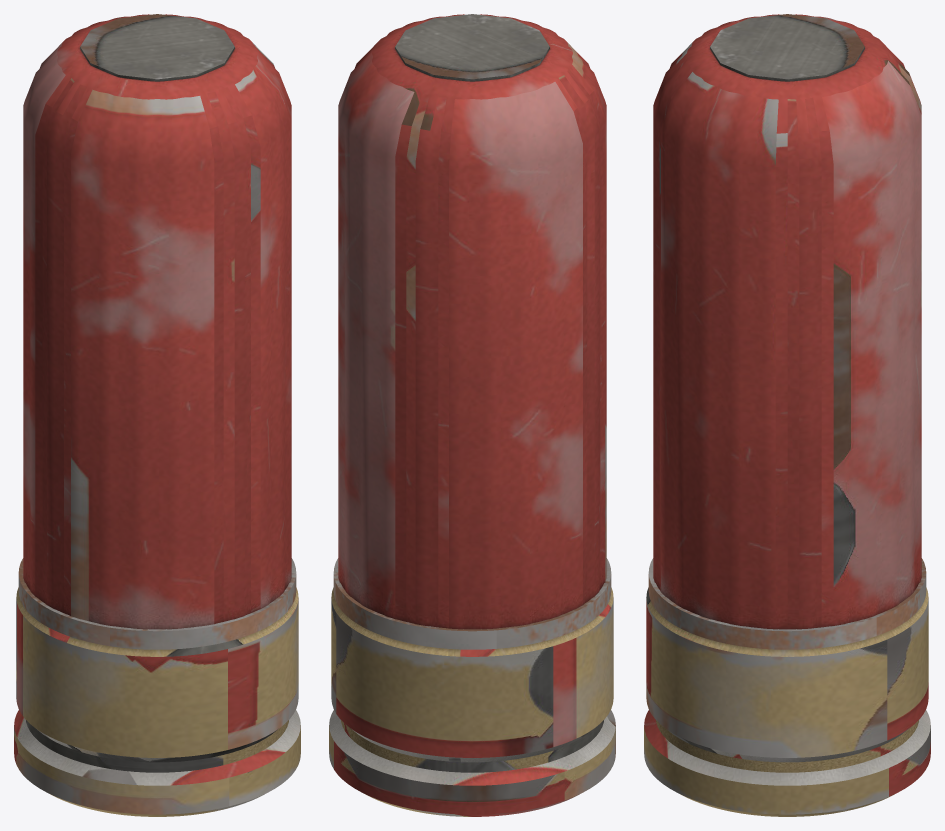
File: round_shell.glb
The picture shows the model from 3 angles, left to right: view 1: azimuth 30°, elevation 25°; view 2: azimuth 150°, elevation 25°; view 3: azimuth 270°, elevation 25°; orthographic projection.
Parts seen in each view (by area): view 1: hull, head, crimp, band; view 2: hull, head, crimp, band; view 3: hull, head, crimp, band.
Boxes of the visible parts, left/top/right/bottom form: hull: left=23, top=14, right=291, bottom=629; head: left=14, top=587, right=300, bottom=816; crimp: left=80, top=14, right=234, bottom=81; band: left=18, top=558, right=296, bottom=649; hull: left=338, top=14, right=606, bottom=629; head: left=329, top=587, right=615, bottom=816; crimp: left=395, top=14, right=549, bottom=81; band: left=333, top=558, right=611, bottom=649; hull: left=653, top=14, right=921, bottom=629; head: left=644, top=587, right=930, bottom=816; crimp: left=710, top=14, right=864, bottom=81; band: left=648, top=558, right=926, bottom=649.
Bounding box in the file's own units: 0.0126 × 0.0349 × 0.0126.
Materials: 1 (1 with a texture image).
